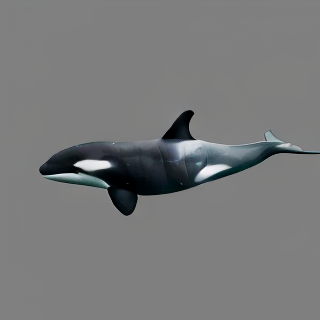Orca whale: (37, 108, 320, 218)
